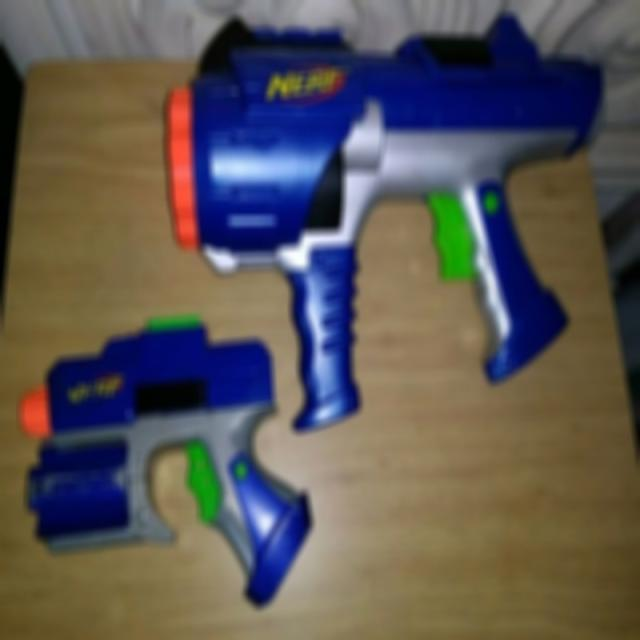Nerf gun: (159, 6, 609, 436), (16, 305, 316, 614)
